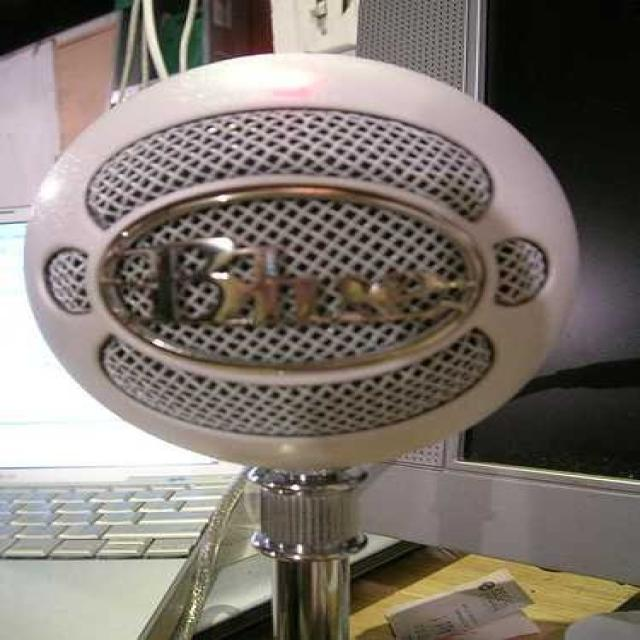microphone: (28, 56, 572, 638)
